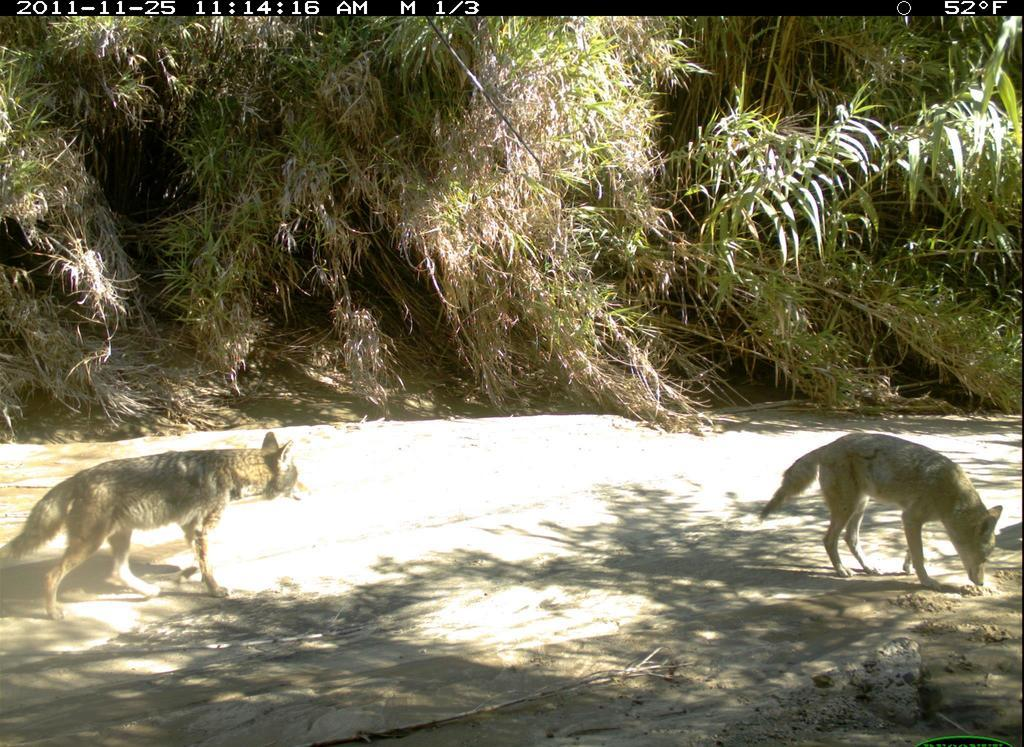coyote: (1, 425, 318, 628), (765, 425, 1004, 596)
